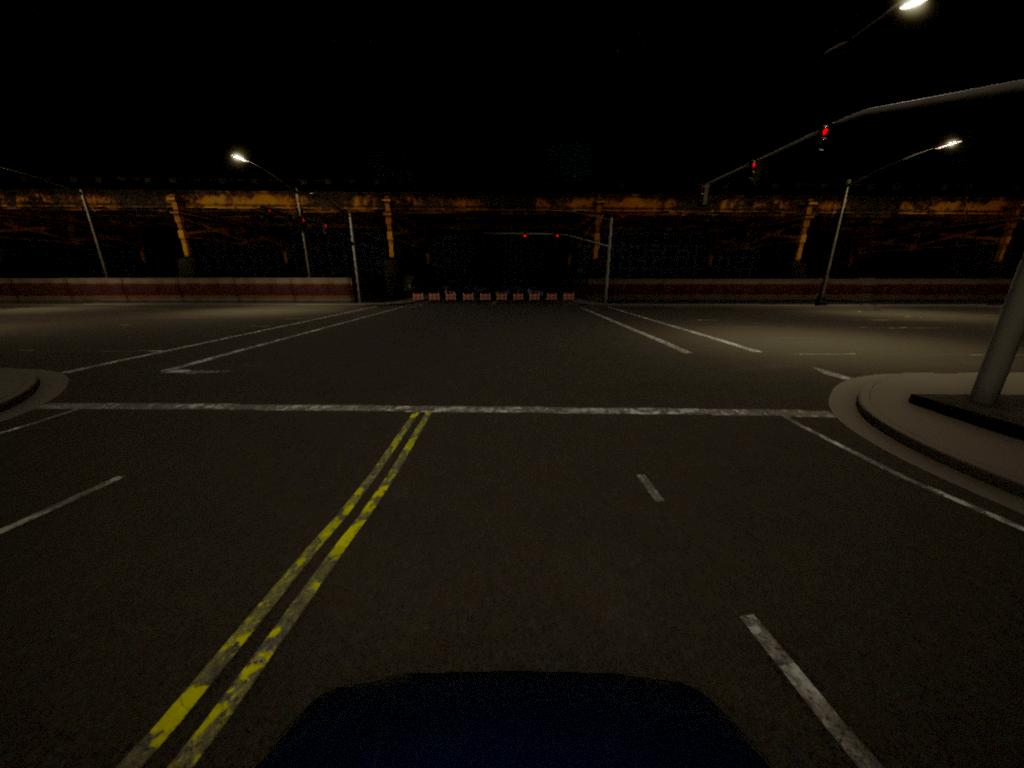traffic_light: (822, 127, 836, 153), (749, 159, 761, 179), (553, 230, 563, 249), (520, 231, 530, 244), (301, 218, 308, 231), (323, 223, 331, 234), (267, 206, 273, 218)
